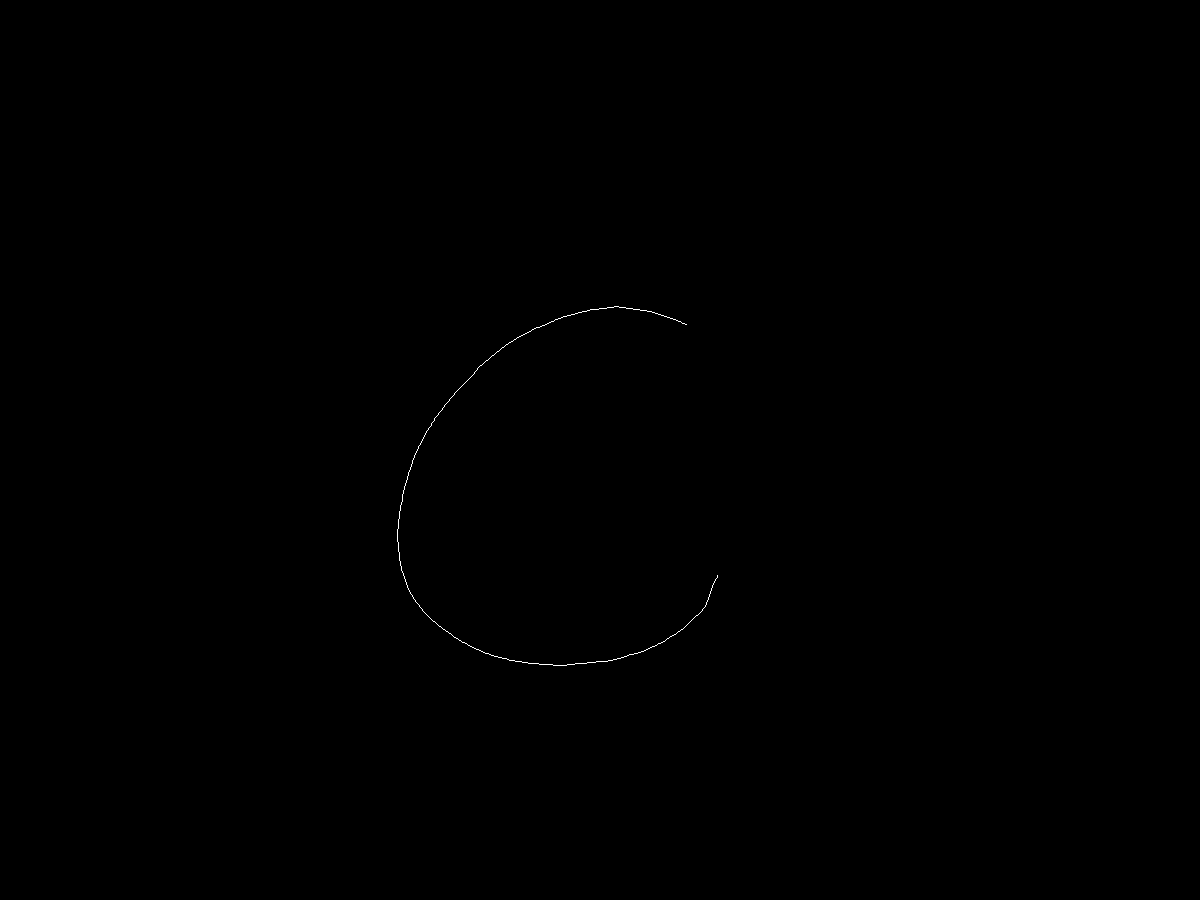dian1: (680, 314, 699, 334)
dian2: (700, 559, 729, 585)
